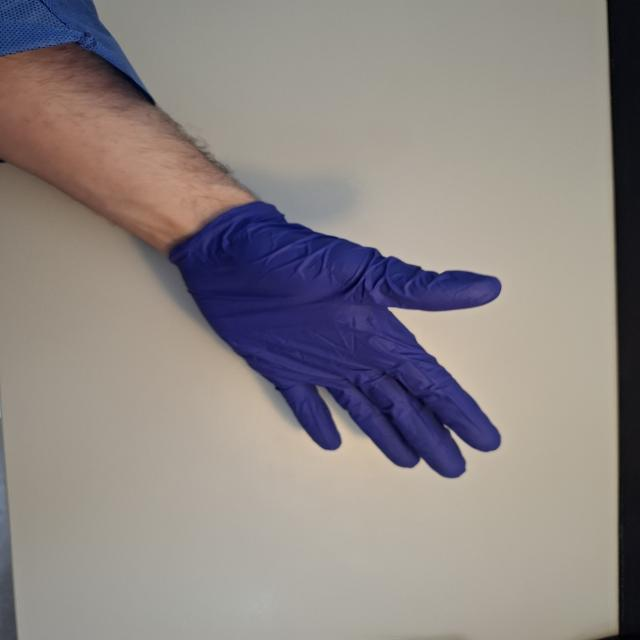glove_on: (162, 192, 505, 480)
